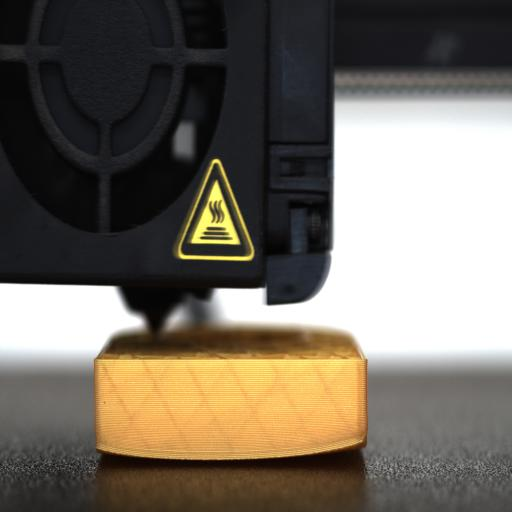warp: (94, 440, 188, 460), (330, 433, 370, 453)
